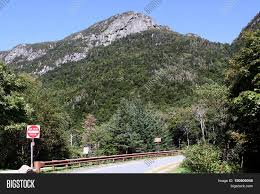doNotEnter: (25, 123, 39, 138)
